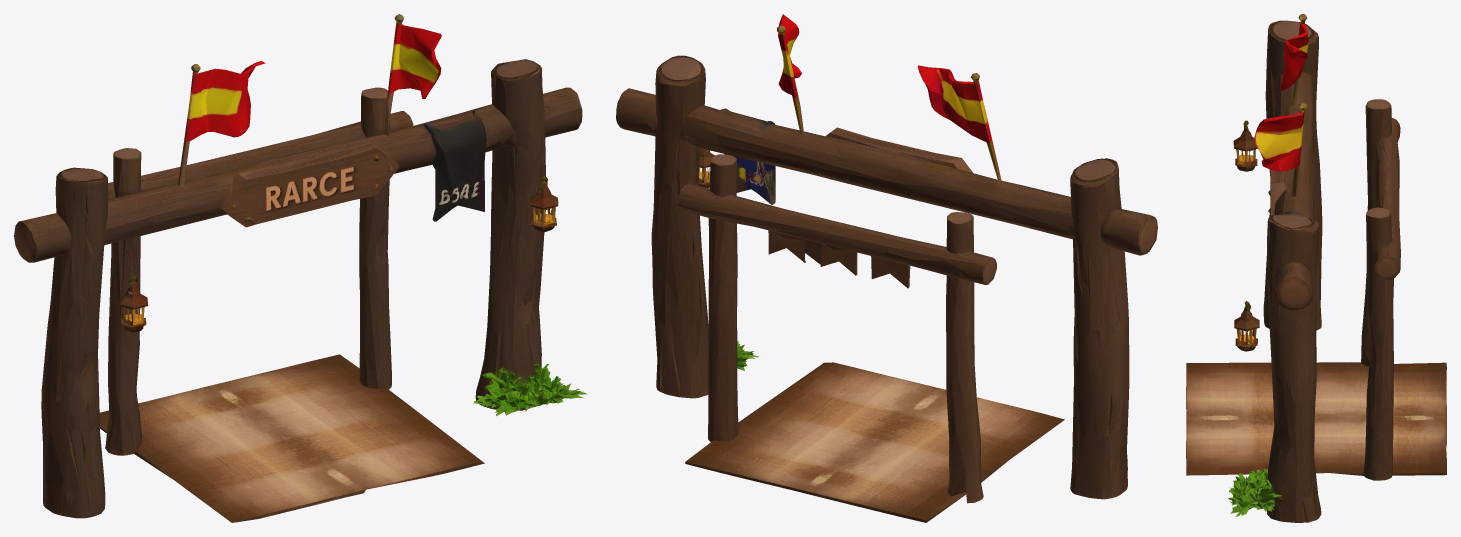
File: start-line.glb
The picture shows the model from 3 angles, left to right: view 1: azimuth 30°, elevation 25°; view 2: azimuth 150°, elevation 25°; view 3: azimuth 270°, elevation 25°; orthographic projection. The views are drawn at different scales.
Bounding box in the file's own units: 1.9 × 1.33 × 0.866.
Materials: 1 (1 with a texture image).
